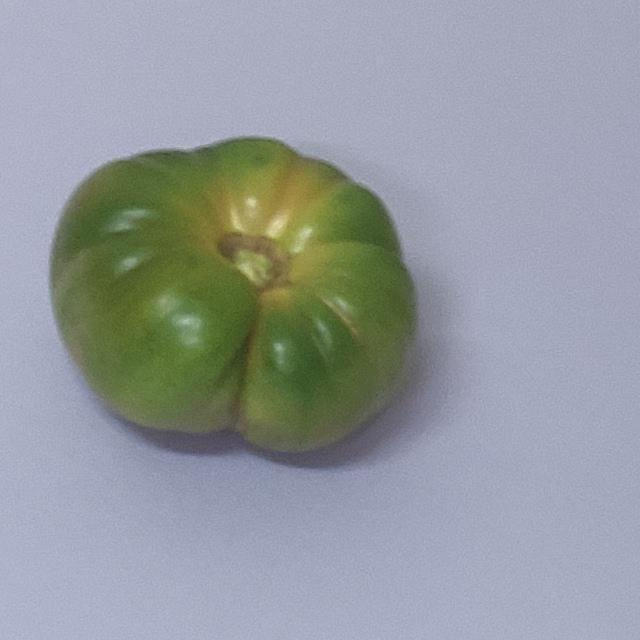tomato: (0, 34, 528, 524)
